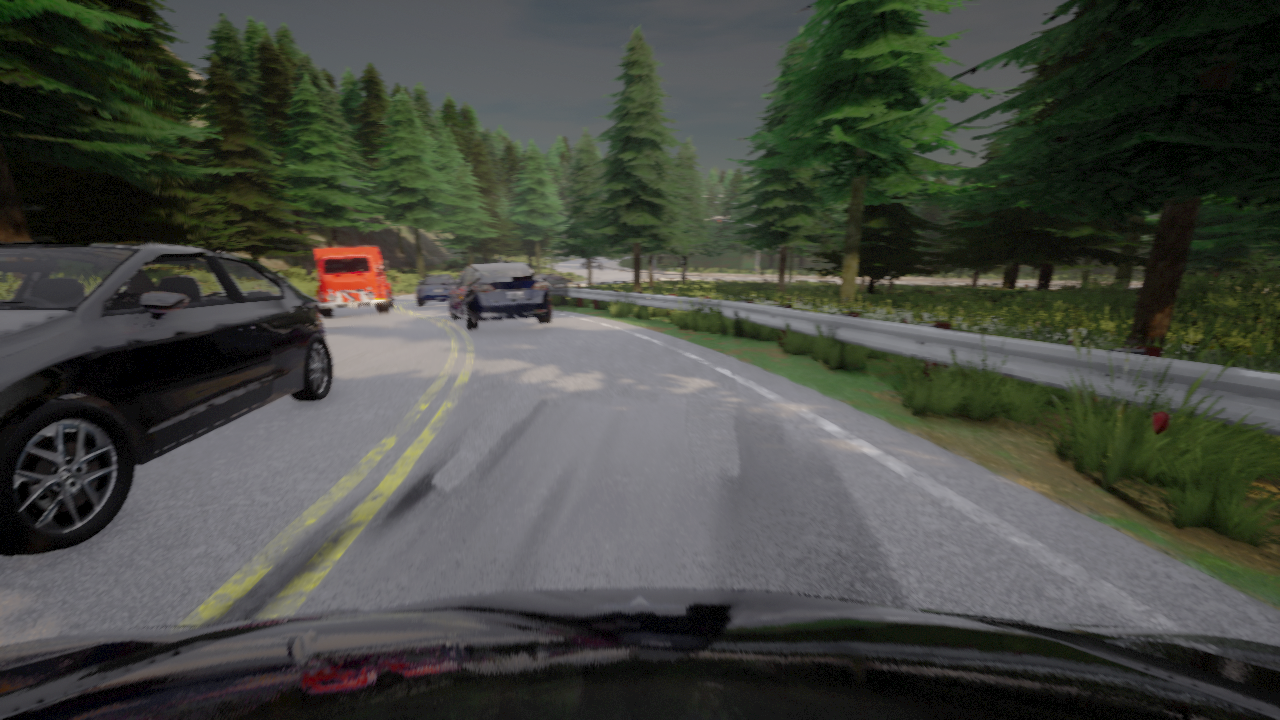cyclist: (0, 588, 1279, 719), (0, 241, 333, 555), (448, 264, 551, 330), (304, 246, 393, 316), (416, 274, 458, 305), (537, 273, 574, 284), (580, 258, 600, 269)
